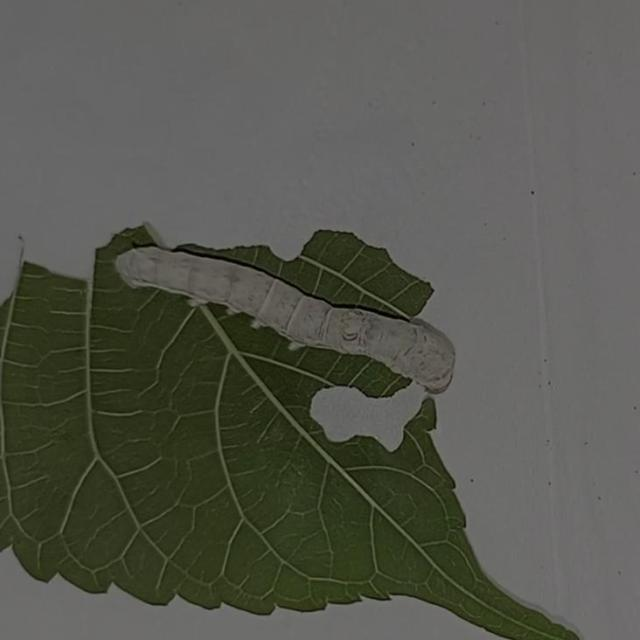Healthy: (70, 201, 487, 415)
